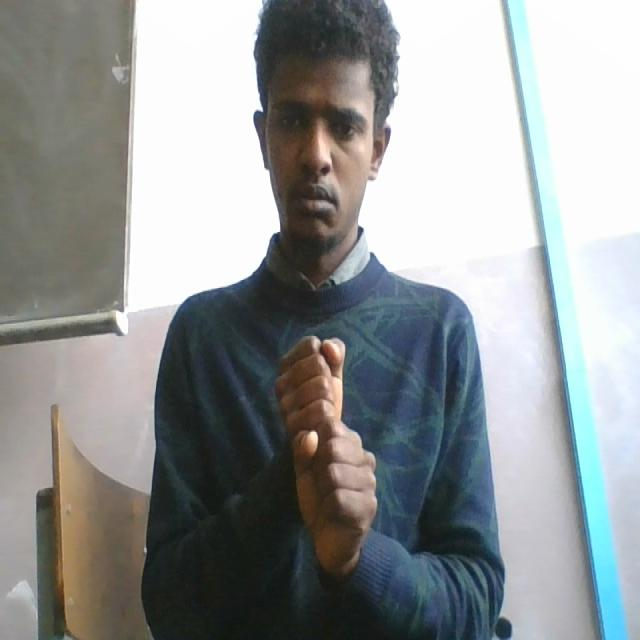meqebel: (273, 326, 378, 535)
